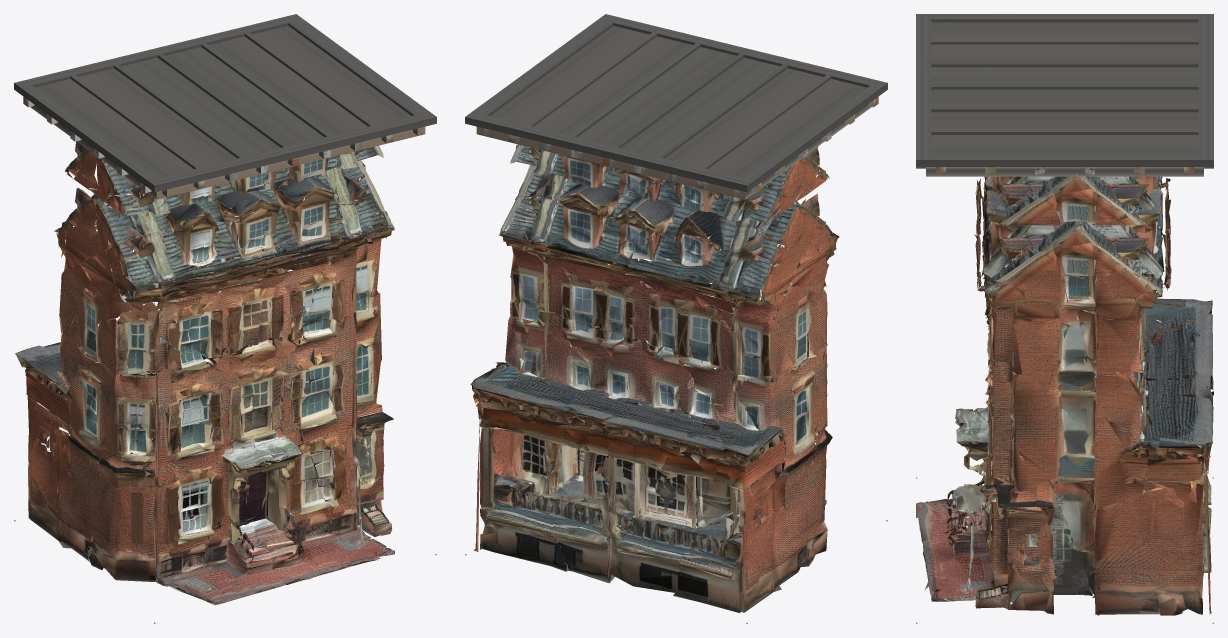
File: bldg-brick.glb
3 views of the same model, side by side, from view 1: azimuth 30°, elevation 25°; view 2: azimuth 150°, elevation 25°; view 3: azimuth 270°, elevation 25° (orthographic). The views are drawn at different scales.
Visible parts, largest first — view 1: bldg-brick; view 2: bldg-brick; view 3: bldg-brick.
Boxes of the visible parts, x1,y1,x2,y2 form: bldg-brick: [14, 14, 436, 623]; bldg-brick: [465, 14, 887, 623]; bldg-brick: [916, 14, 1213, 623].
Bounding box in the file's own units: 1.28 × 1.9 × 1.11.
Materials: 1 (1 with a texture image).
